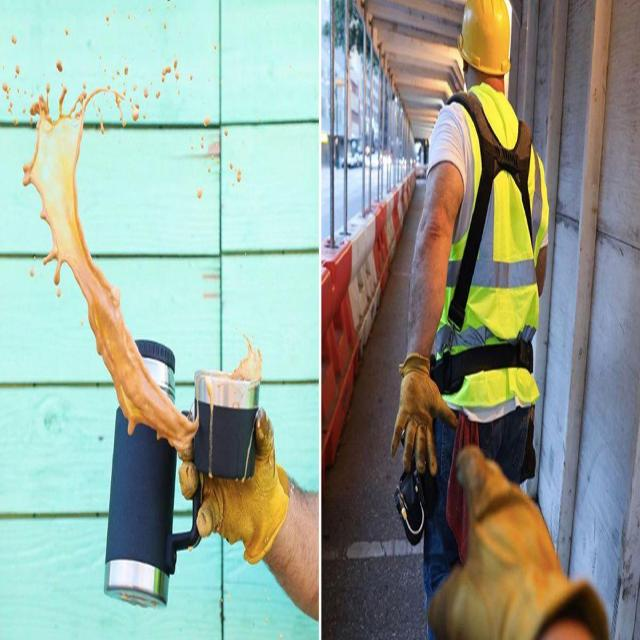Reflective-Jacket: (424, 98, 550, 428)
Safety-Helmet: (456, 3, 514, 78)
